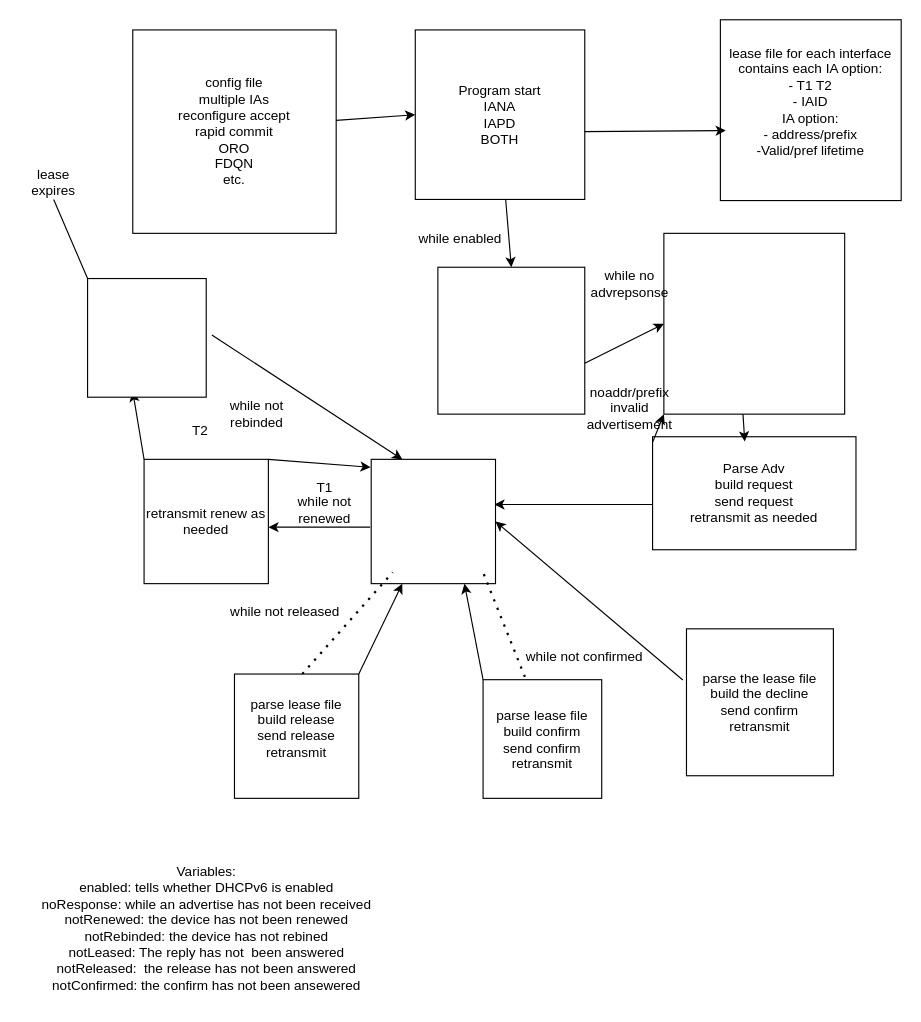
This 921x1022 diagram has some shape labels left out. The shapes that lost their labels are listed below. From the top down, each one's box as (x1, y1, x2, y2) in pixels, then its label:
(86, 277, 206, 397): retransmit rebind as needed
(437, 266, 585, 414): create the solicit using all configuration information
(663, 232, 845, 414): transmit it and retransmit it as necessary
(370, 458, 496, 584): parse reply process it in the device lease information file
